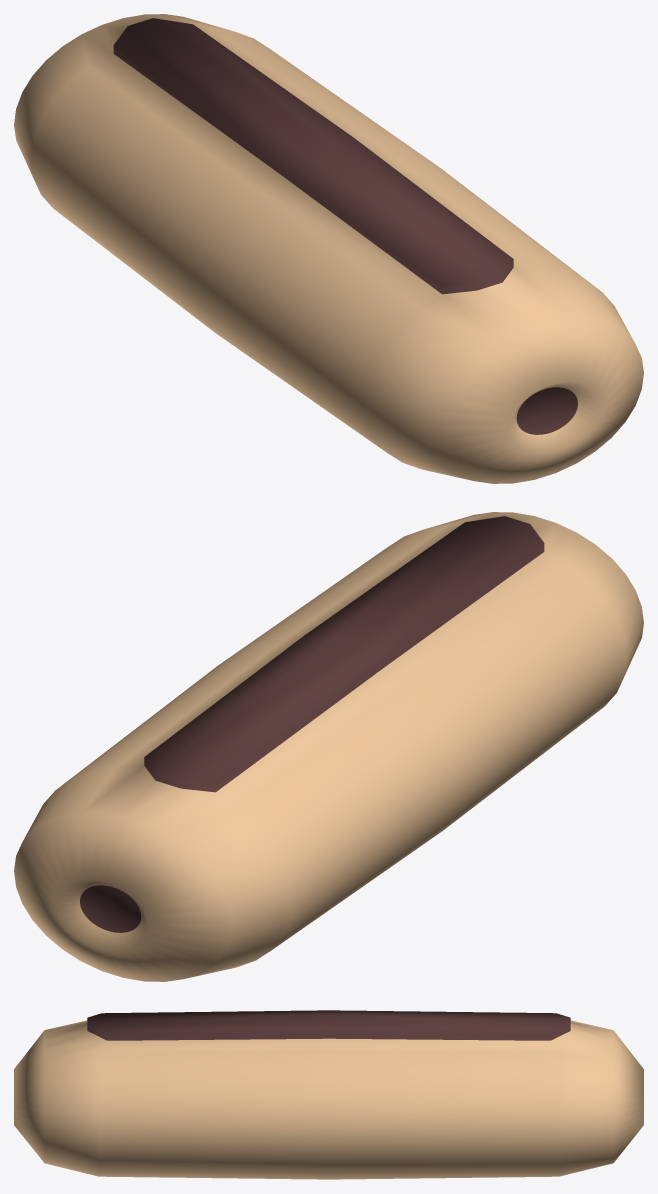
The model's file is eclair 1.fbx.
3 views of the same model, one above another, from view 1: azimuth 30°, elevation 25°; view 2: azimuth 150°, elevation 25°; view 3: azimuth 270°, elevation 25° (orthographic). The views are drawn at different scales.
Visible parts, largest first — view 1: Eclair; view 2: Eclair; view 3: Eclair.
Boxes of the visible parts, x1,y1,x2,y2 form: Eclair: [14, 14, 643, 483]; Eclair: [14, 512, 643, 981]; Eclair: [14, 1010, 643, 1179].
Size of the model in its own units: 184 by 135 by 536.
